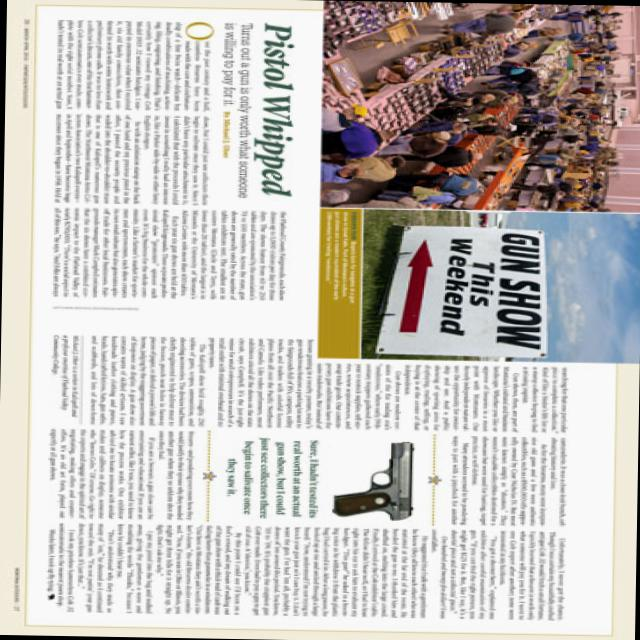handgun: (328, 437, 417, 518)
